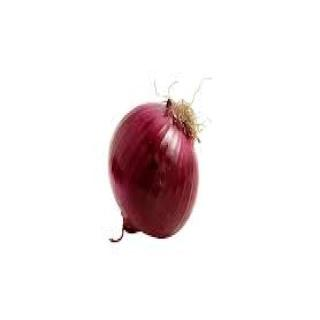Bawang Merah: (102, 96, 206, 246)
